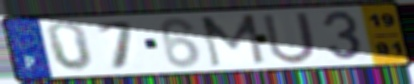0: (46, 21, 96, 74)
3: (319, 8, 366, 64)
6: (156, 16, 206, 70)
7: (95, 19, 138, 71)
M: (197, 12, 268, 69)
U: (260, 10, 319, 66)
